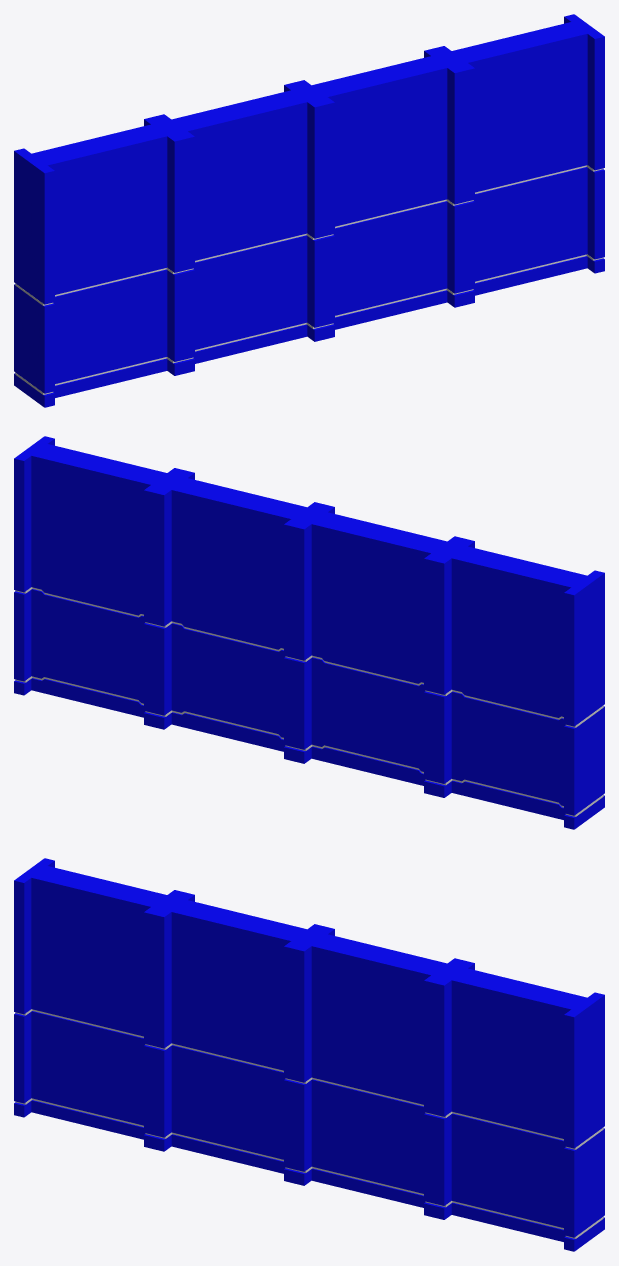
The model's file is WallsV2_3x1Merged.fbx.
The picture shows the model from 3 angles, top to bottom: view 1: azimuth 30°, elevation 25°; view 2: azimuth 150°, elevation 25°; view 3: azimuth 330°, elevation 25°; orthographic projection.
Visible parts, largest first — view 1: WallV2_3x1_Combined; view 2: WallV2_3x1_Combined; view 3: WallV2_3x1_Combined.
Part boxes in pixels (bbox=[...]): WallV2_3x1_Combined: bbox=[14, 14, 604, 407]; WallV2_3x1_Combined: bbox=[14, 436, 604, 829]; WallV2_3x1_Combined: bbox=[14, 858, 604, 1251].
Bounding box in the file's own units: 2000 × 800 × 190.
